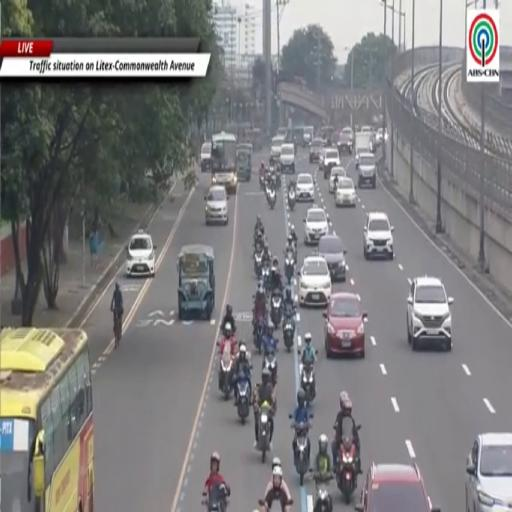bus: (0, 329, 94, 511), (212, 133, 237, 193)
car: (355, 463, 440, 511), (465, 432, 511, 511), (407, 277, 453, 350), (324, 293, 366, 358), (298, 255, 331, 306), (363, 212, 393, 260), (126, 230, 155, 277), (318, 234, 346, 281), (304, 205, 329, 245), (205, 185, 228, 225), (357, 153, 376, 188), (321, 148, 340, 179), (335, 178, 356, 206), (296, 173, 314, 201), (329, 166, 346, 193), (280, 143, 295, 173), (337, 127, 353, 154), (355, 133, 374, 153), (271, 136, 285, 162), (309, 138, 323, 164), (201, 142, 211, 172), (302, 126, 314, 147), (376, 127, 386, 146), (360, 125, 374, 133)
motorcycle: (336, 438, 358, 504), (292, 424, 310, 486), (219, 341, 233, 401), (313, 473, 335, 511), (257, 403, 270, 462), (202, 484, 229, 511), (237, 373, 250, 424), (301, 364, 315, 405), (263, 352, 277, 387), (283, 315, 295, 351), (271, 292, 282, 328), (254, 318, 264, 354), (261, 264, 271, 295), (285, 251, 294, 284), (266, 188, 276, 209), (254, 252, 262, 278), (288, 188, 296, 211), (276, 166, 281, 189), (259, 172, 265, 189), (285, 500, 293, 511)
